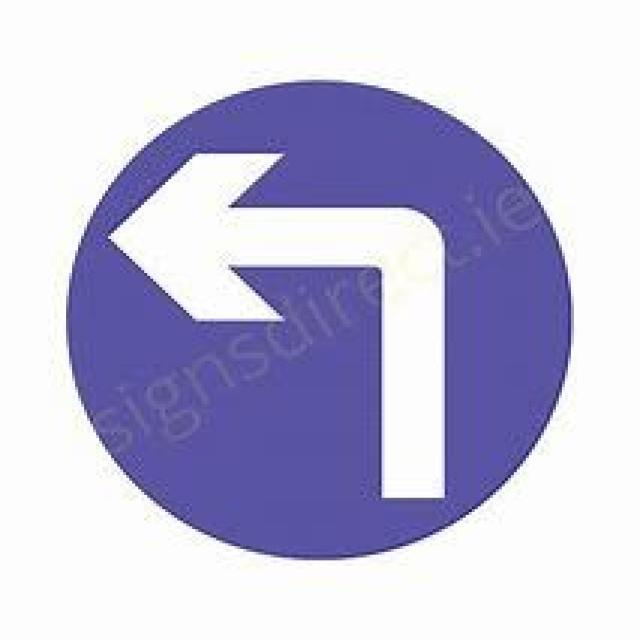compulsary turn left ahead: (66, 82, 572, 564)
